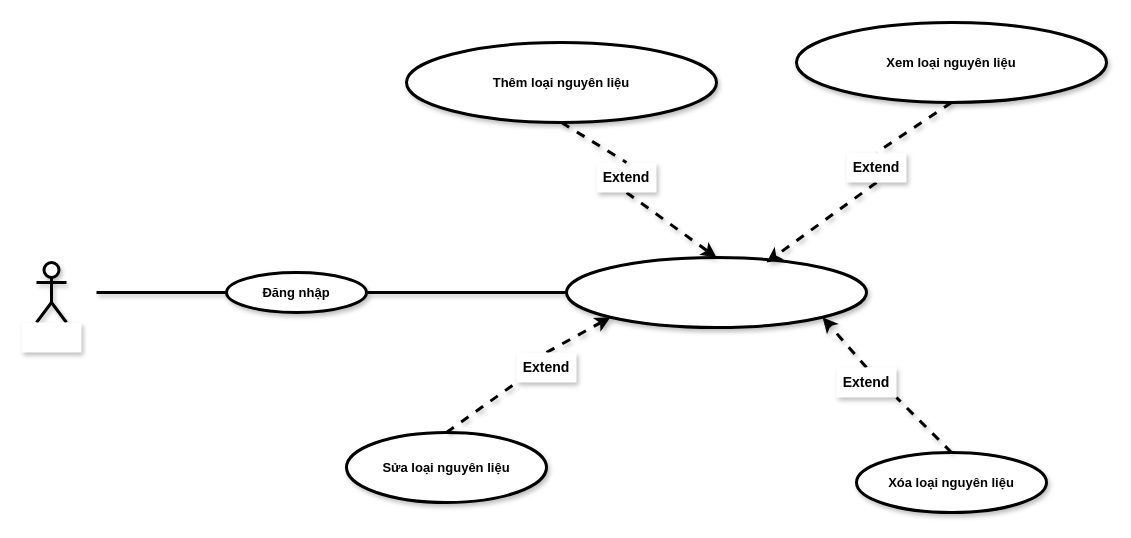
The diagram is 1131 pixels wide and 538 high, and some of its shapes have lost their labels. Each missing label, with the centre of its shape:
"Actor" belongs at (x=52, y=293).
"Admin" belongs at (x=52, y=338).
"Quản lý loại nguyên liệu" belongs at (x=717, y=294).
